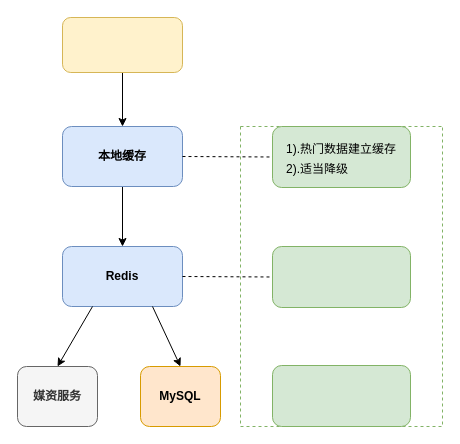
Image size: 460x444. Some labels were removed from this diagram. The centre of each missing label's shape, as x and y in pixels:
并发访问媒资服务: point 341,395
异步更新: point 341,277
请求: point 122,44
